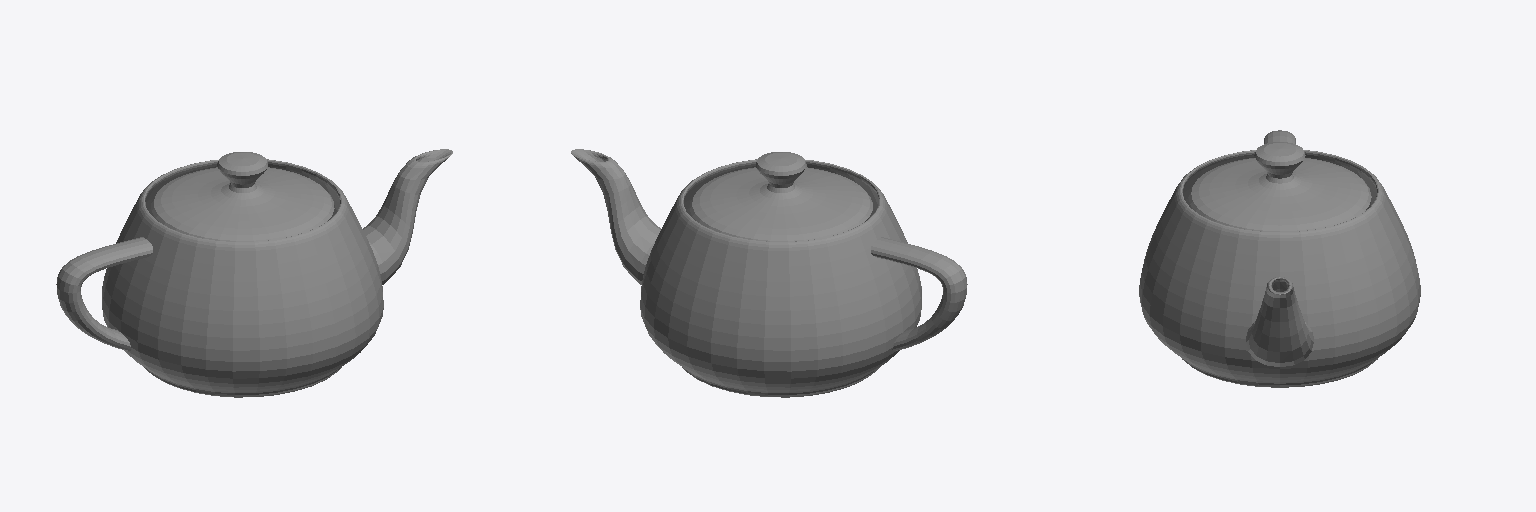
File: teapot.obj
3 views of the same model, side by side, from view 1: azimuth 30°, elevation 25°; view 2: azimuth 150°, elevation 25°; view 3: azimuth 270°, elevation 25° (orthographic).
Visible parts, largest first — view 1: Teapot01; view 2: Teapot01; view 3: Teapot01.
Part boxes in pixels (x1,y1,x2,y2): Teapot01: (56, 149, 452, 397); Teapot01: (571, 149, 967, 397); Teapot01: (1139, 130, 1420, 387).
Size of the model in its own units: 116 by 56.79 by 72.11.